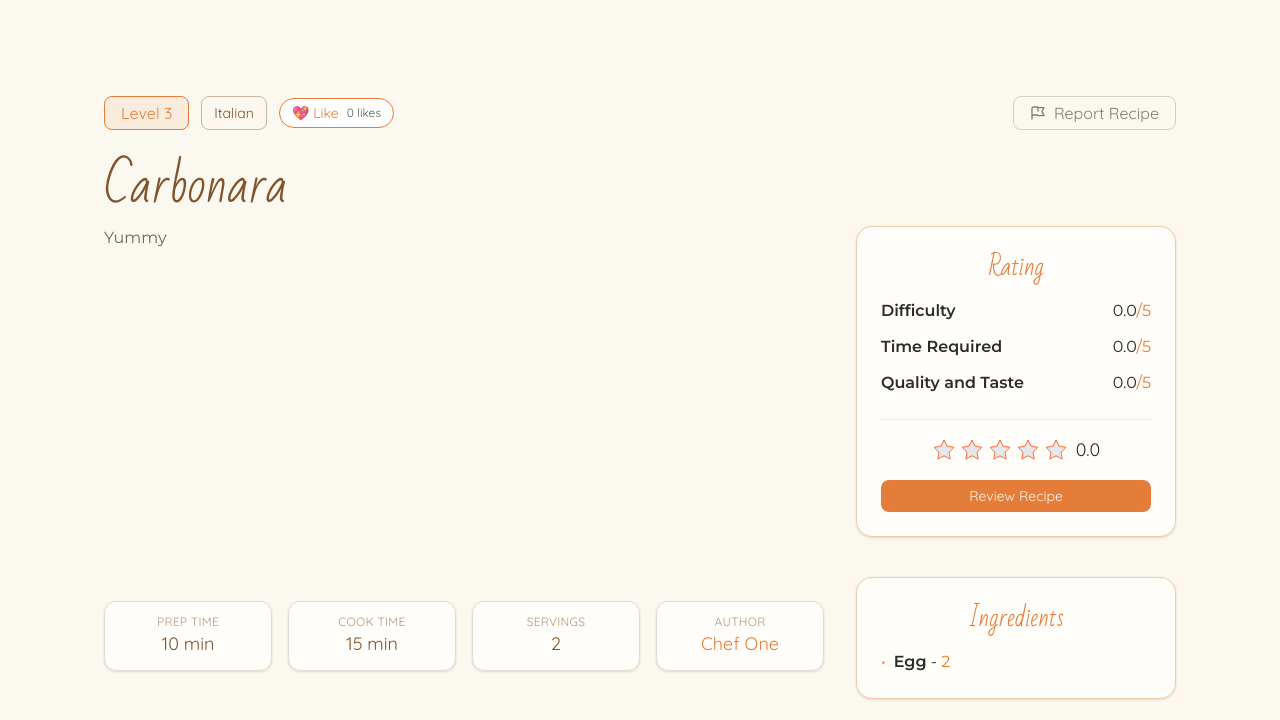
Test case: RecipePage › toggle like: logged in faz insert e atualiza UI para 'Liked' e contador
Check: the heading "Carbonara" is shown, box [104,138,287,233]
Click the button "💖 Like 0 likes" at (336, 113), box [279,98,394,128]
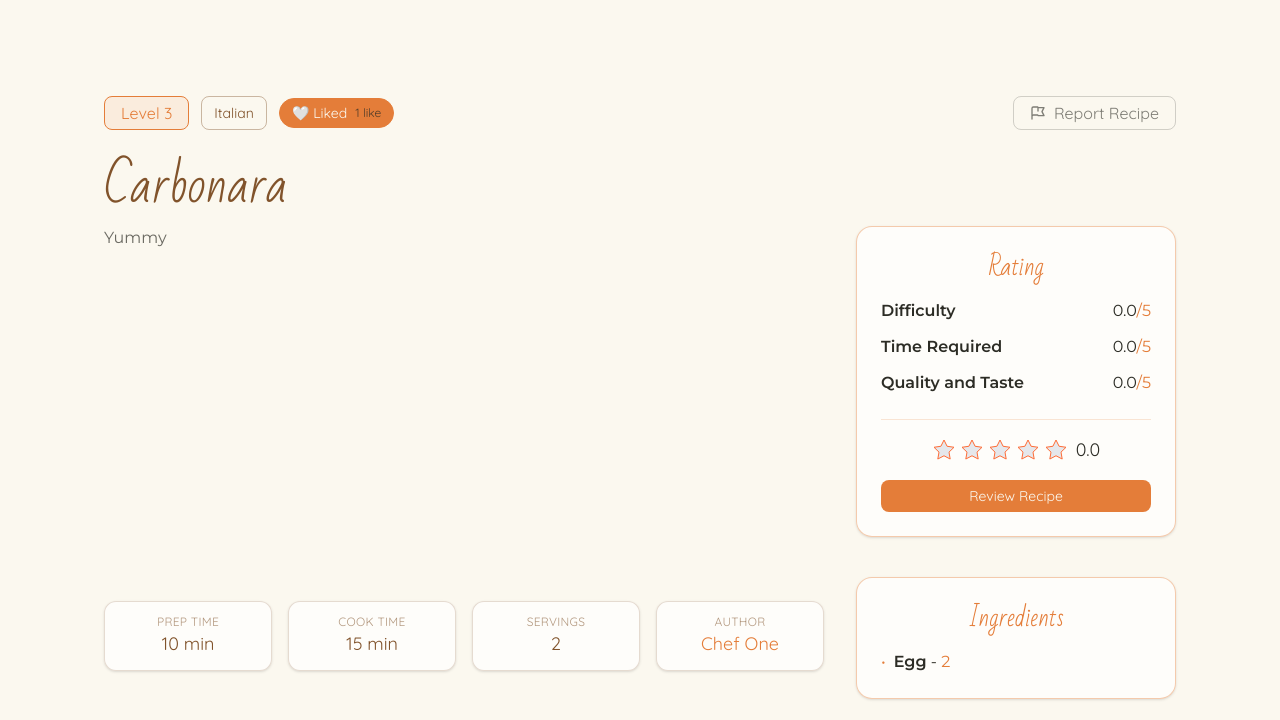
Check: the text "🤍 Liked" is shown, box [292,103,347,123]
Check: the text "1 like" is shown, box [355,105,381,121]
